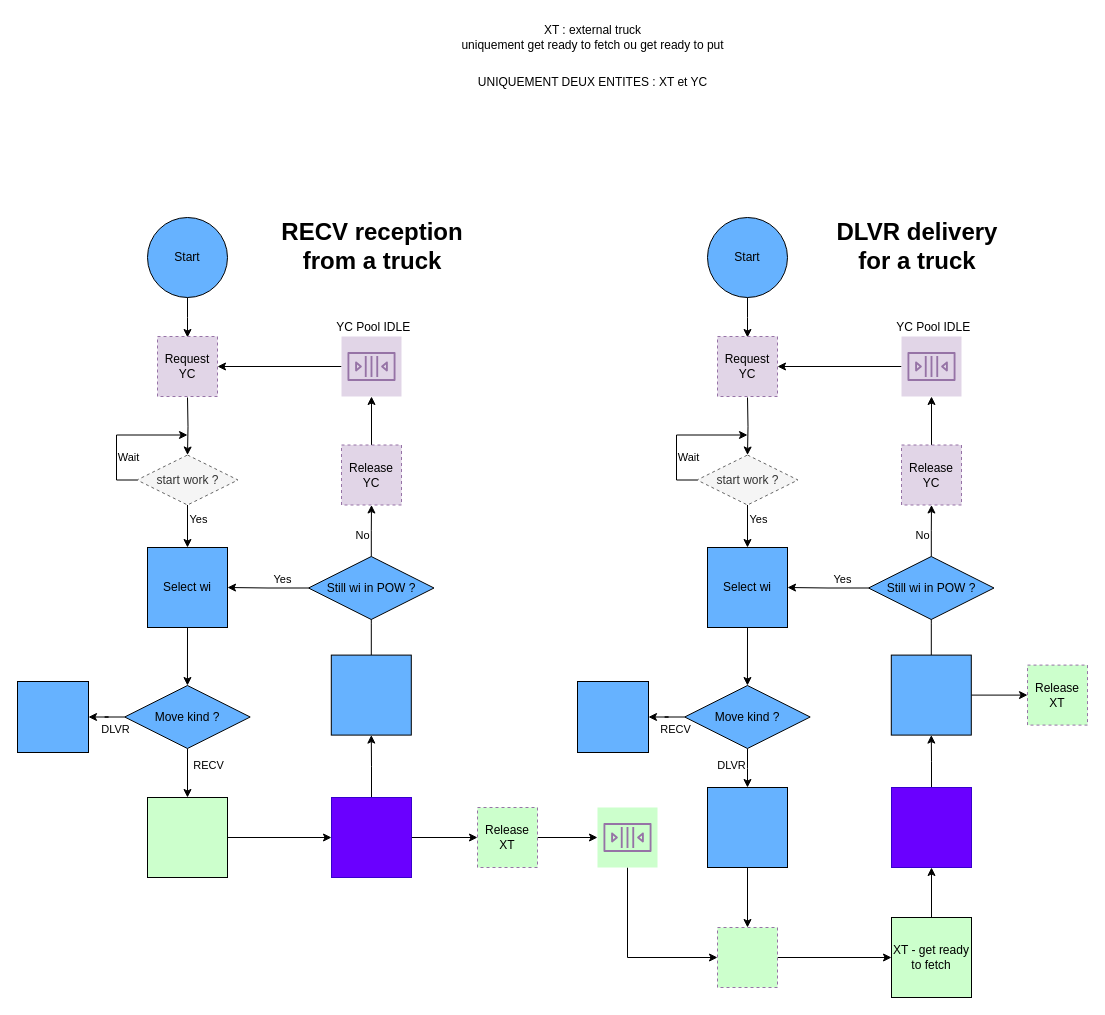
Image size: 1105x1015. Some labels were removed from this diagram. The shapes that lost their labels are listed below. From the top down, each one's centre as x and y in pixels, then its label:
At (370,694): "YC - load onto yard".
At (930,694): "YC - load on XT".
At (52,716): "Launch DLVR Function".
At (612,716): "Launch RECV Function".
At (187,837): "XT - get ready to put".
At (371,837): "YC - get ready to fetch from XT ()".
At (627,837): "XT Pool IDLE".
At (747,827): "YC - fetch ()".
At (931,827): "YC - get ready to get for XT ()".
At (747,957): "Request XT".
